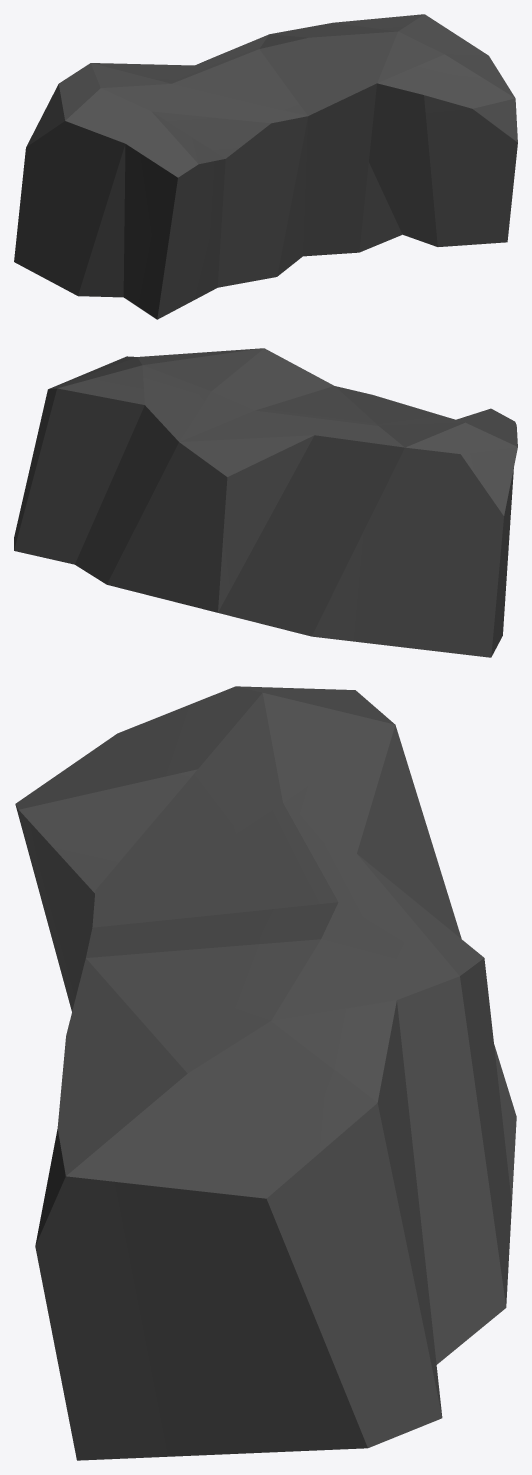
The model's file is volcanicRockS01.fbx.
3 renders of one model, top to bottom at view 1: azimuth 30°, elevation 25°; view 2: azimuth 150°, elevation 25°; view 3: azimuth 270°, elevation 25°, orthographic. The views are drawn at different scales.
Parts seen in each view (by area): view 1: Cliff_Rock_11; view 2: Cliff_Rock_11; view 3: Cliff_Rock_11.
Part boxes in pixels (left/top/right/bottom): Cliff_Rock_11: left=14, top=14, right=517, bottom=319; Cliff_Rock_11: left=14, top=348, right=517, bottom=657; Cliff_Rock_11: left=15, top=686, right=516, bottom=1460.
Size of the model in its own units: 242 by 107 by 117.
Materials: 1 (1 with a texture image).
